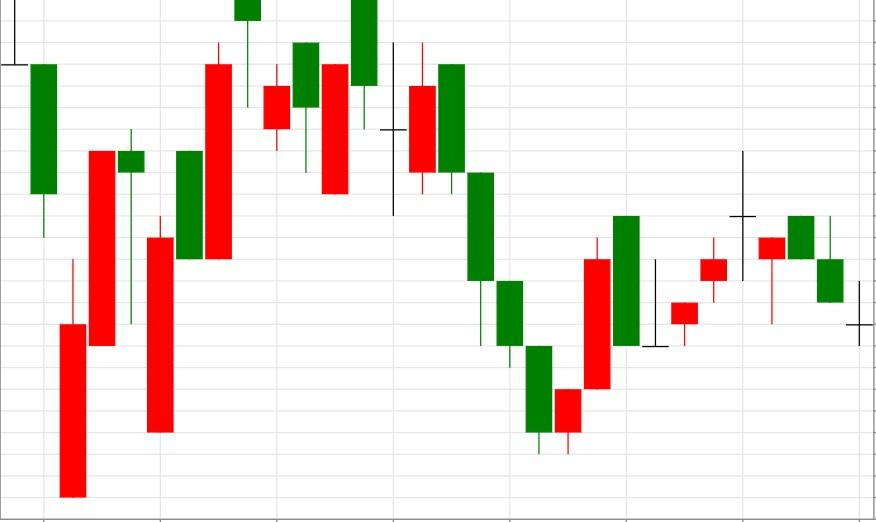hanging_man_fall: (146, 0, 262, 433)
three_black_crows_fall: (379, 43, 524, 368)
